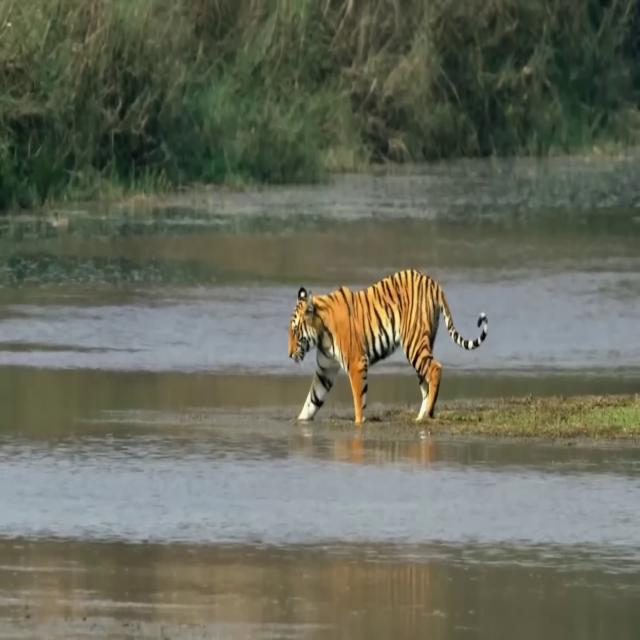tiger: (289, 269, 488, 422)
